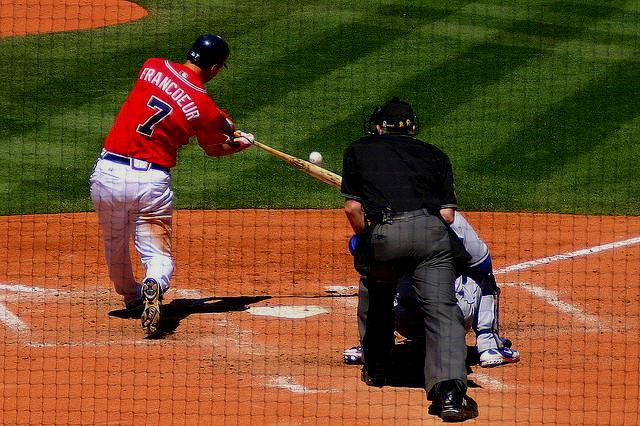baseball bat: (252, 140, 342, 188)
sports ball: (309, 152, 323, 166)
